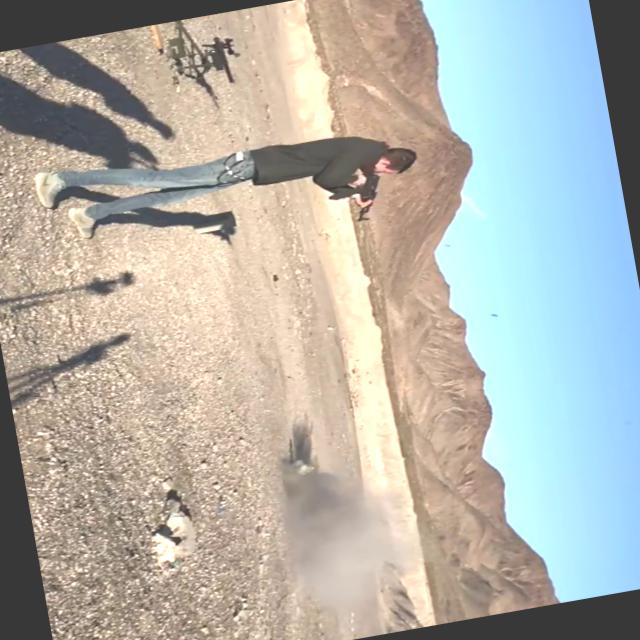long weapon: (314, 154, 396, 233)
